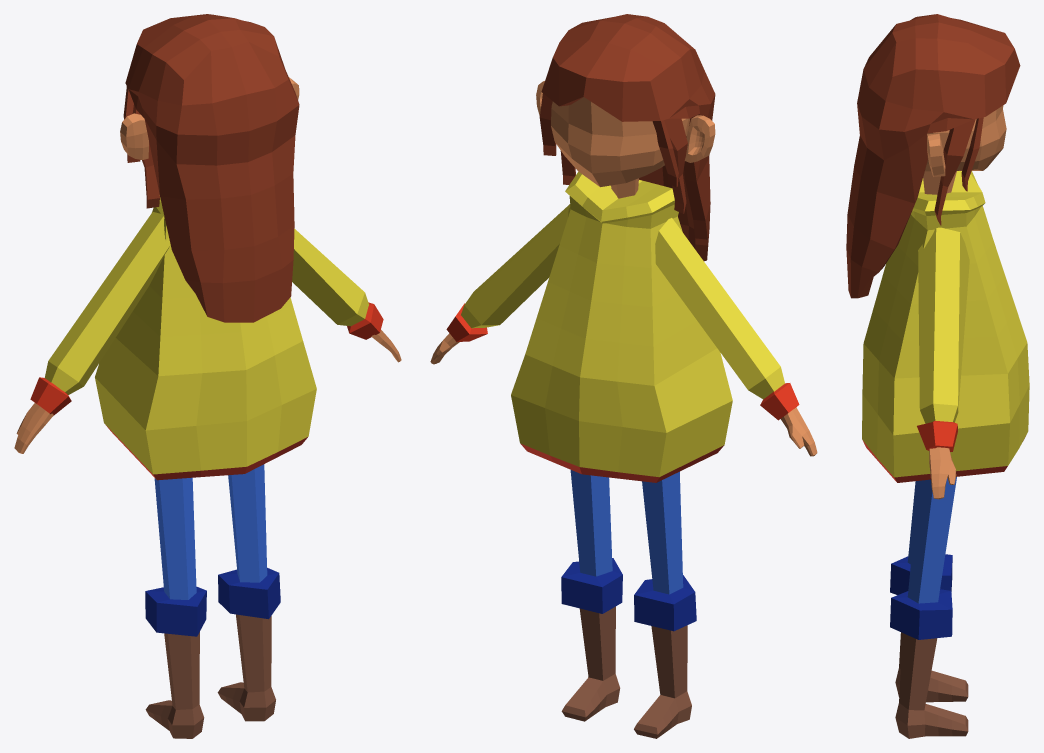
The model's file is PersonajeUnoLowPoly.fbx.
3 renders of one model, left to right at view 1: azimuth 30°, elevation 25°; view 2: azimuth 150°, elevation 25°; view 3: azimuth 270°, elevation 25°, orthographic.
Parts seen in each view (by area): view 1: Cube.003, Cylinder, Cube, Cube.002; view 2: Cube, Cylinder, Cube.003, Cube.001, Cube.002; view 3: Cube, Cube.003, Cylinder, Cube.001, Cube.002, Cylinder.001.
Boxes of the visible parts, box(x1,y1,x2,y2) form: Cube.003: box(123, 14, 299, 322); Cylinder: box(14, 212, 401, 738); Cube: box(95, 195, 316, 480); Cube.002: box(120, 77, 299, 159); Cube: box(511, 171, 732, 482); Cylinder: box(430, 204, 817, 738); Cube.003: box(539, 14, 715, 261); Cube.001: box(551, 97, 690, 187); Cube.002: box(536, 81, 715, 162); Cube: box(862, 171, 1029, 482); Cube.003: box(846, 14, 1020, 298); Cylinder: box(890, 227, 969, 738); Cube.001: box(925, 105, 1006, 171); Cube.002: box(927, 133, 945, 177); Cylinder.001: box(923, 171, 956, 194).
Bounding box in the file's own units: 191 × 332 × 79.63.
